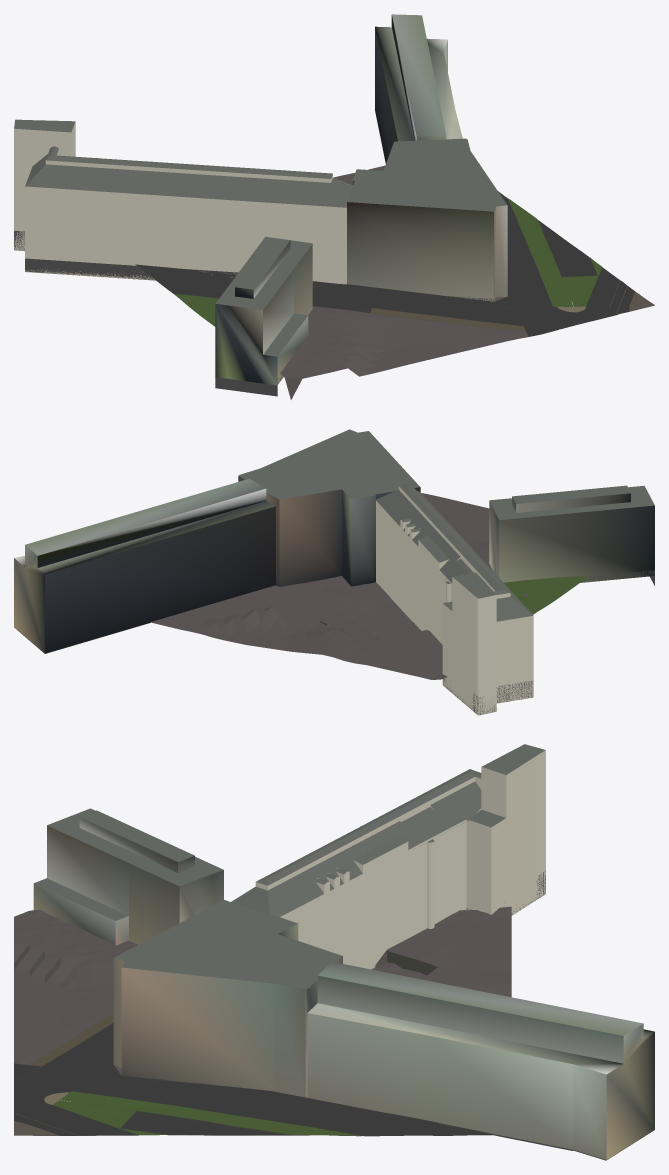
3 renders of one model, top to bottom at view 1: azimuth 30°, elevation 25°; view 2: azimuth 150°, elevation 25°; view 3: azimuth 270°, elevation 25°, orthographic. The views are drawn at different scales.
Parts seen in each view (by area): view 1: c_p03_m12; view 2: c_p03_m12; view 3: c_p03_m12.
Part boxes in pixels (x1,y1,x2,y2): c_p03_m12: (14, 14, 654, 399); c_p03_m12: (14, 429, 654, 715); c_p03_m12: (14, 744, 654, 1160).
Size of the model in its own units: 170 by 43.65 by 165.
